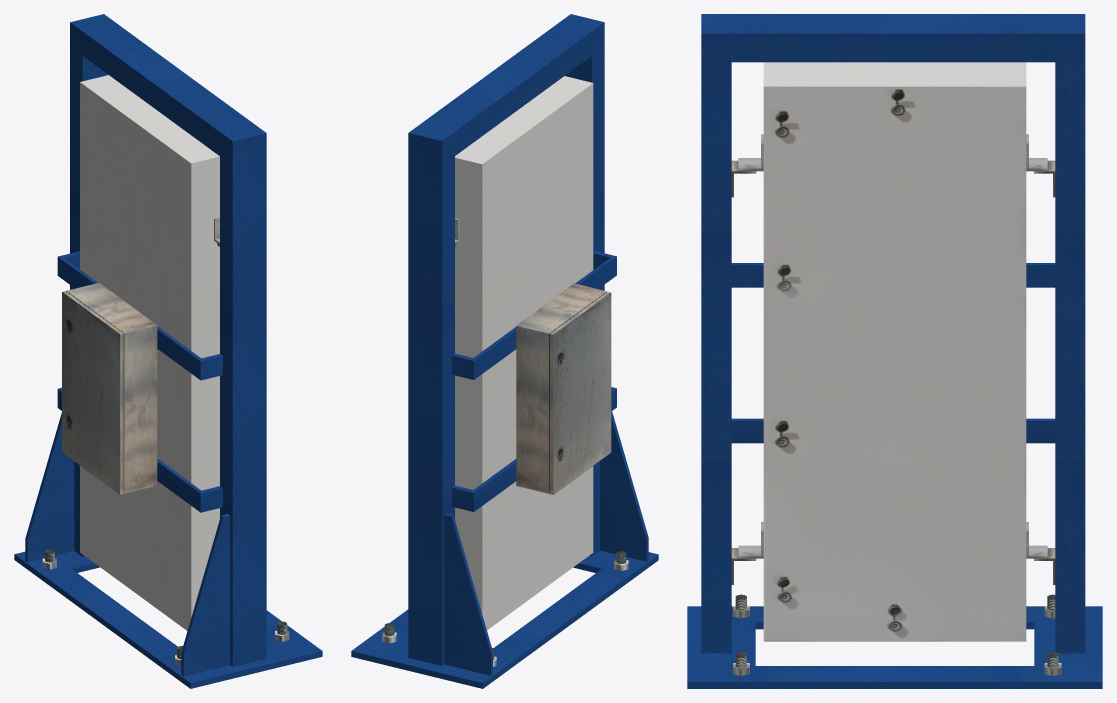
Rendered from CheLiangFangSeXingTanCeYi.FBX.
3 renders of one model, left to right at view 1: azimuth 30°, elevation 25°; view 2: azimuth 150°, elevation 25°; view 3: azimuth 270°, elevation 25°, orthographic. The views are drawn at different scales.
Parts seen in each view (by area): view 1: CheLiangFangSeXingTanCeYi; view 2: CheLiangFangSeXingTanCeYi; view 3: CheLiangFangSeXingTanCeYi.
Boxes of the visible parts, x1,y1,x2,y2 form: CheLiangFangSeXingTanCeYi: [14, 14, 322, 688]; CheLiangFangSeXingTanCeYi: [351, 14, 658, 688]; CheLiangFangSeXingTanCeYi: [687, 14, 1102, 688].
Size of the model in its own units: 77.62 by 275 by 165.
